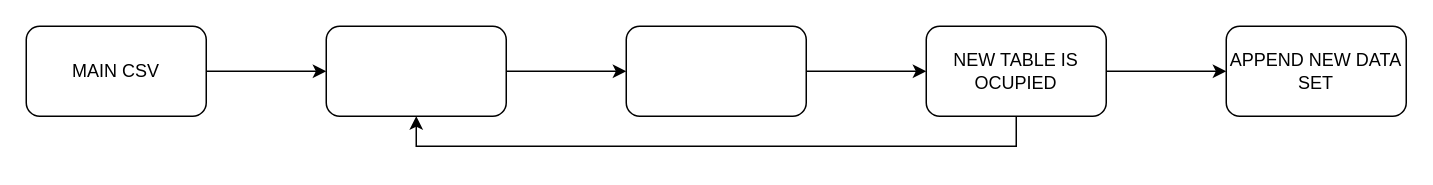
Some shapes in this 1433 by 185 pixel diagram are drawn without their labels. The shapes that lost their labels are listed below. From the top down, each one's box as (x1, y1, x2, y2) in pixels, then its label:
(325, 25, 506, 116): DEEP COPY
(625, 25, 806, 116): PROCESS
